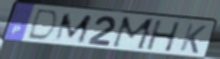2: (86, 15, 119, 48)
D: (25, 8, 61, 43)
H: (145, 20, 182, 53)
K: (177, 22, 209, 55)
M: (109, 16, 157, 52), (52, 12, 95, 45)
